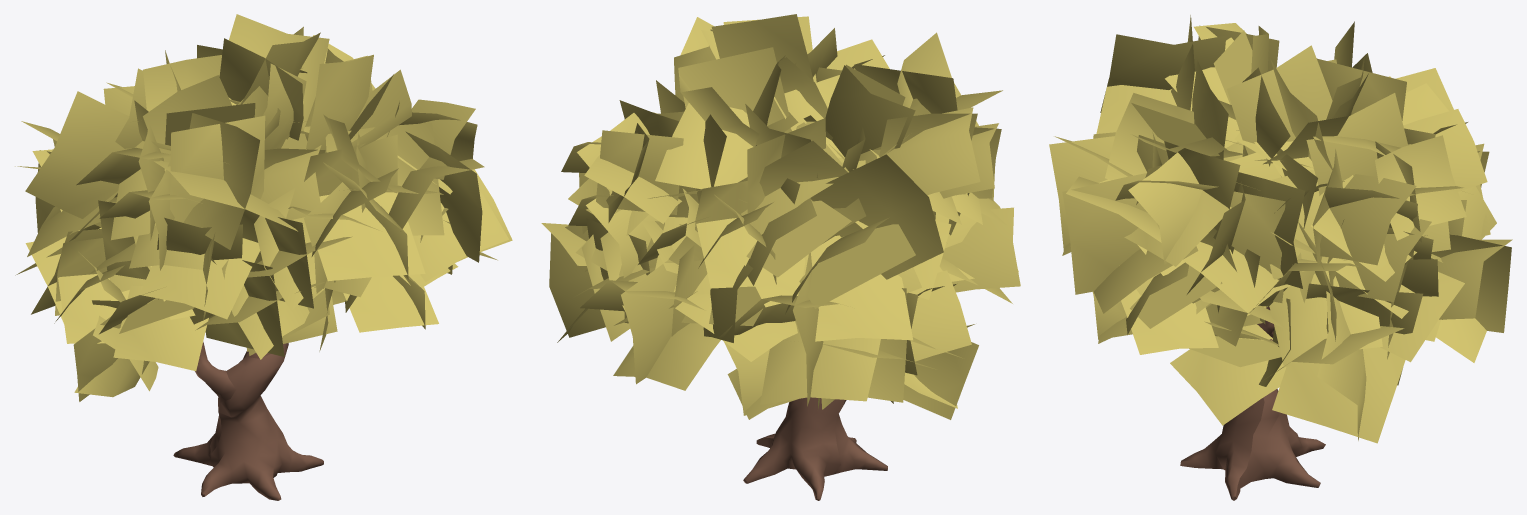
Rendered from TR_01_autumn.glb.
3 renders of one model, left to right at view 1: azimuth 30°, elevation 25°; view 2: azimuth 150°, elevation 25°; view 3: azimuth 270°, elevation 25°, orthographic. The views are drawn at different scales.
Parts seen in each view (by area): view 1: Tr_01_Leaves_autumn_001, Tr_01_Stem_autumn_001; view 2: Tr_01_Leaves_autumn_001, Tr_01_Stem_autumn_001; view 3: Tr_01_Leaves_autumn_001, Tr_01_Stem_autumn_001.
Boxes of the visible parts, left/top/right/bottom form: Tr_01_Leaves_autumn_001: left=15, top=14, right=512, bottom=401; Tr_01_Stem_autumn_001: left=173, top=342, right=323, bottom=500; Tr_01_Leaves_autumn_001: left=541, top=14, right=1020, bottom=419; Tr_01_Stem_autumn_001: left=743, top=397, right=887, bottom=500; Tr_01_Leaves_autumn_001: left=1049, top=15, right=1512, bottom=443; Tr_01_Stem_autumn_001: left=1180, top=307, right=1325, bottom=500.
Bounding box in the file's own units: 4.34 × 4.27 × 4.15.
